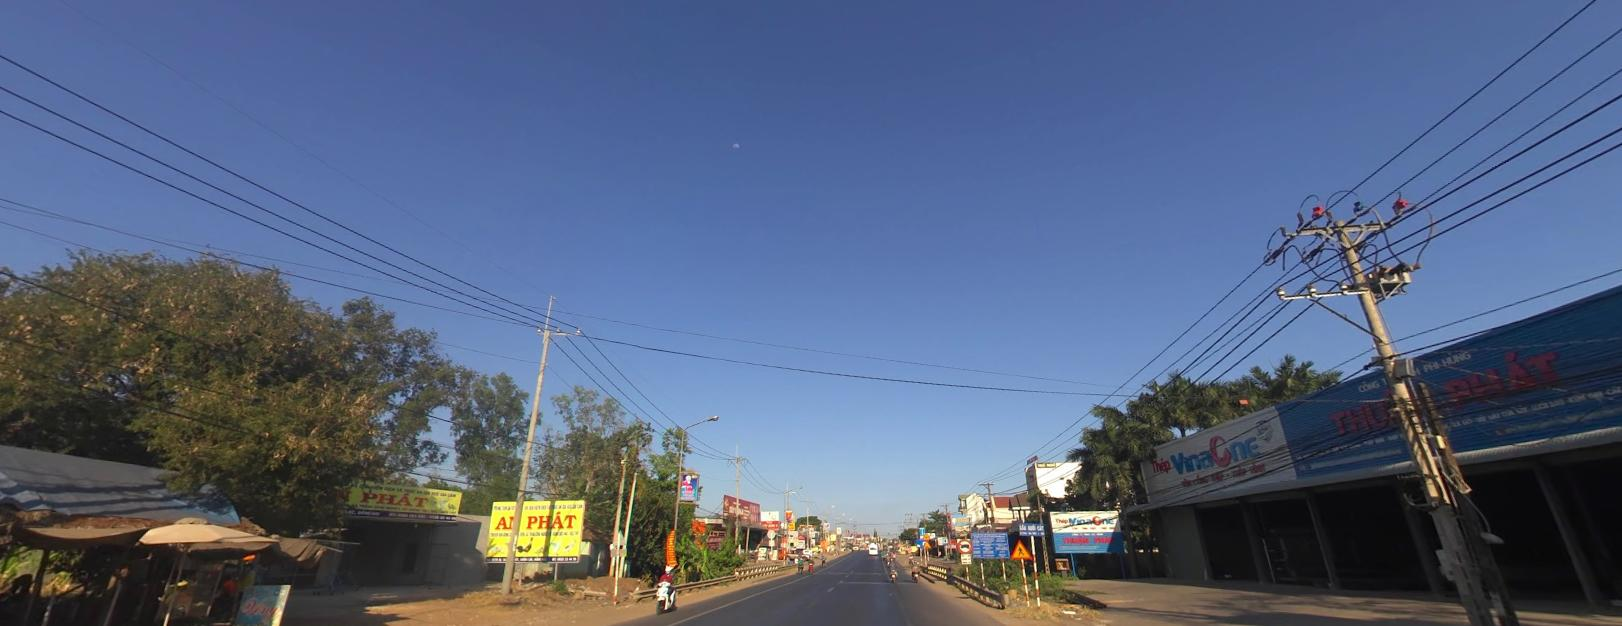Cam con lai: (956, 538, 972, 552)
Nguy hiem: (1009, 538, 1032, 559), (922, 540, 931, 547), (921, 532, 930, 539)
